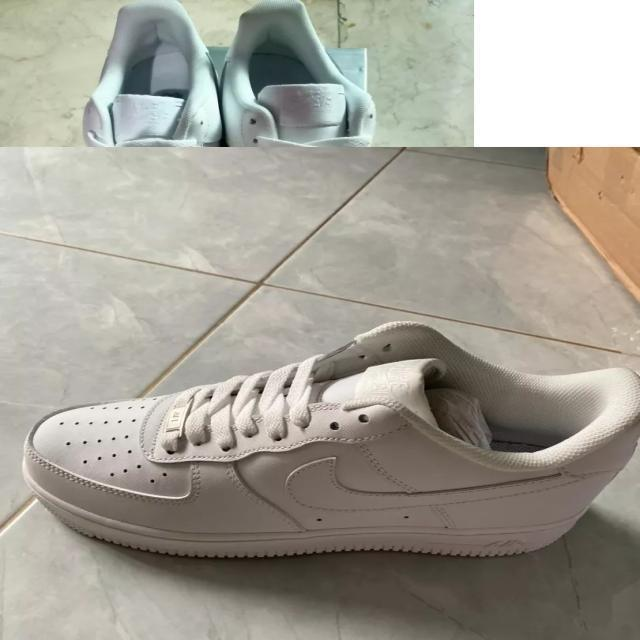nike original air force: (21, 323, 640, 561)
